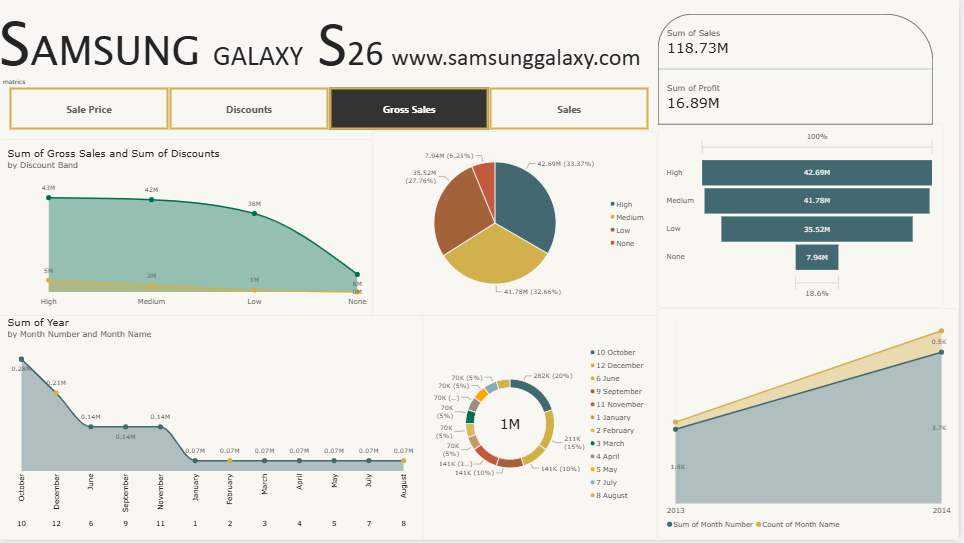

Layout of this report page (visuals, bound fields, positions):
{"tool":"powerbi","page":{"name":"Page 2","canvas":[1920,1080],"ordinal":1},"visuals":[{"type":"textbox","box":[10,0,280,280],"z":0},{"type":"clusteredColumnChart","fields":{"Category":["financials.Month Number","financials.Month Name"],"Y":["Sum(financials.Year)"]},"box":[0,616,854,464],"z":1000},{"type":"areaChart","fields":{"Category":["financials.Discount Band"],"Y":["Sum(financials.Gross Sales)","Sum(financials.Discounts)"]},"box":[0,278,816,354],"z":2000},{"type":"donutChart","fields":{"Category":["financials.Month Number","financials.Month Name"],"Y":["Sum(financials.Year)"]},"box":[846,616,470,464],"z":3000},{"type":"pieChart","fields":{"Category":["financials.Discount Band"],"Y":["Sum(financials.Gross Sales)"]},"box":[746,262,570,370],"z":4000},{"type":"slicer","fields":{"Values":["matrics.matrics"]},"box":[0,156.7,1318.3,105],"z":5000},{"type":"stackedAreaChart","fields":{"Category":["financials.Year"],"Y":["Sum(financials.Month Number)","CountNonNull(financials.Month Name)"]},"box":[1318,616,602,464],"z":6000},{"type":"funnel","fields":{"Category":["financials.Discount Band"],"Y":["Sum(financials.Gross Sales)"]},"box":[1318,246,570,370],"z":7000},{"type":"gauge","fields":{"Y":["Sum(financials.Sales)"]},"box":[1318,28,550,222],"z":8000},{"type":"textbox","box":[0,0,1436,246],"z":9000}]}

Visuals, with their boxes in screenshot pixels (x1, y1, x2, y2), scaled from the page's 1920x1080 canvas onto the 964x543 screenshot:
textbox: {"left": 5, "top": 0, "right": 146, "bottom": 141}
clusteredColumnChart - financials.Month Number x financials.Month Name: {"left": 0, "top": 310, "right": 429, "bottom": 542}
areaChart - financials.Discount Band x Sum(financials.Gross Sales): {"left": 0, "top": 140, "right": 410, "bottom": 318}
donutChart - financials.Month Number x financials.Month Name: {"left": 425, "top": 310, "right": 661, "bottom": 542}
pieChart - financials.Discount Band x Sum(financials.Gross Sales): {"left": 375, "top": 132, "right": 661, "bottom": 318}
slicer - matrics.matrics: {"left": 0, "top": 79, "right": 662, "bottom": 132}
stackedAreaChart - financials.Year x Sum(financials.Month Number): {"left": 662, "top": 310, "right": 963, "bottom": 542}
funnel - financials.Discount Band x Sum(financials.Gross Sales): {"left": 662, "top": 124, "right": 948, "bottom": 310}
gauge - Sum(financials.Sales): {"left": 662, "top": 14, "right": 938, "bottom": 126}
textbox: {"left": 0, "top": 0, "right": 721, "bottom": 124}
